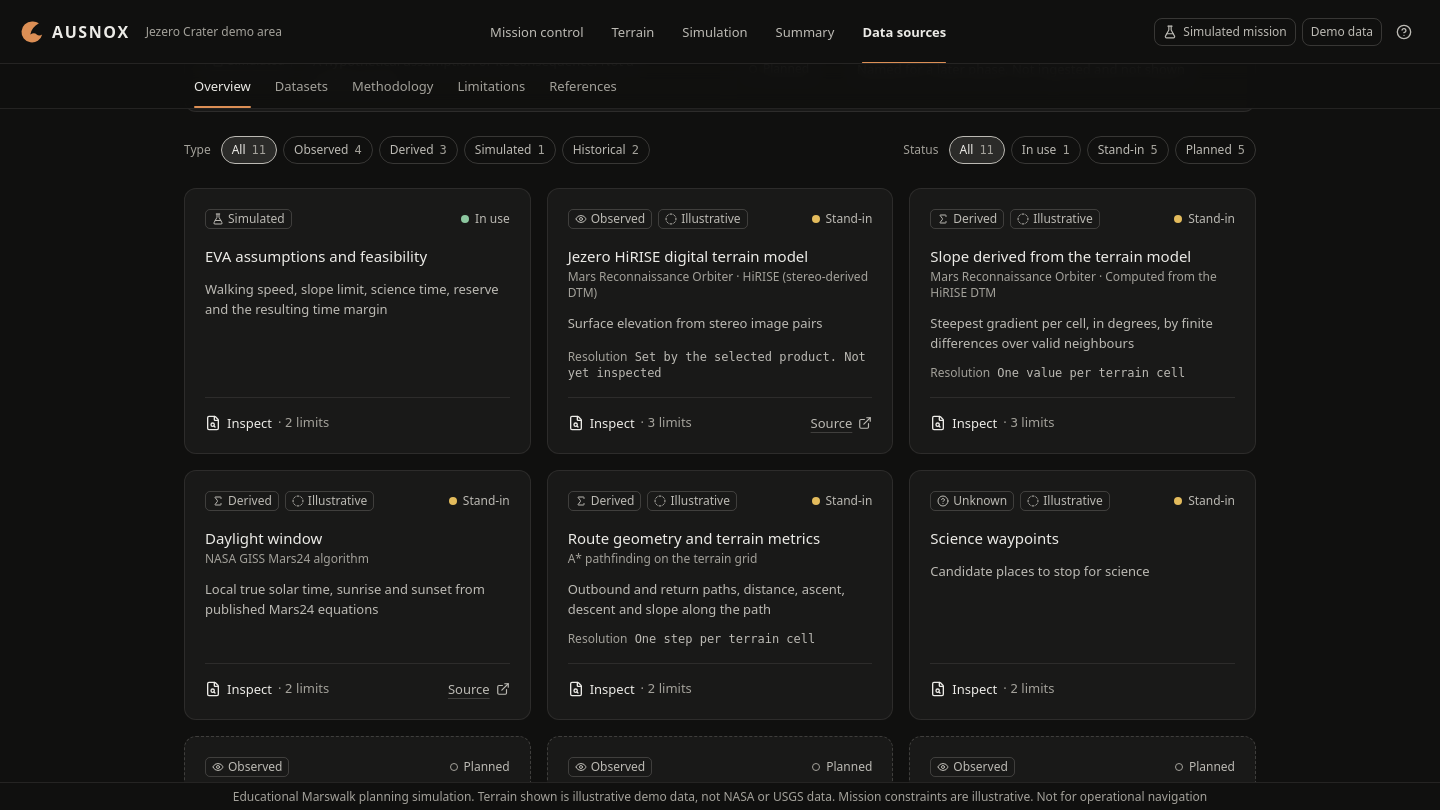
Data sources page › opens provenance details from a dataset card
(page scrolled)
Click the button with aria-label "Inspect provenance:": [267, 422] box [205,412,329,433]
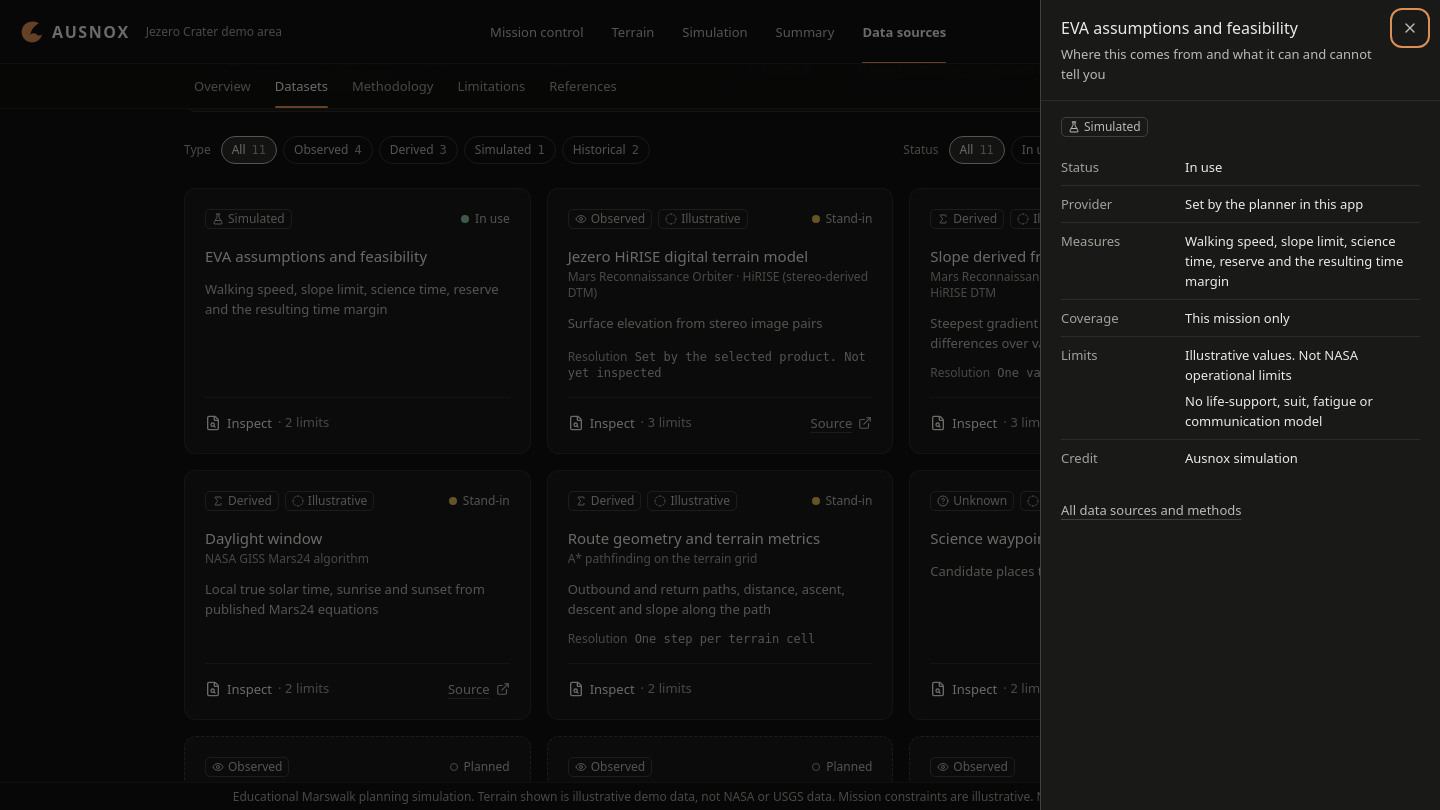
Now the dialog is shown, box [1040,0,1439,809]
